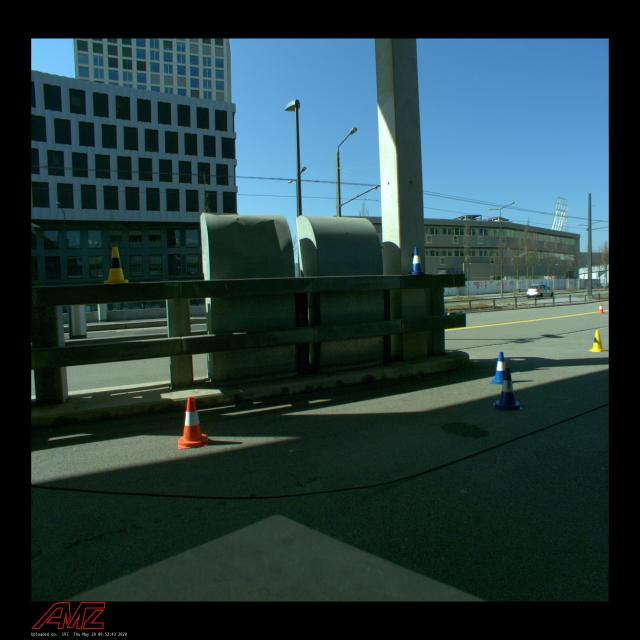blue_cone: (493, 368, 523, 412), (490, 352, 511, 384)
orange_cone: (178, 396, 210, 450), (597, 303, 604, 314)
yellow_cone: (588, 330, 607, 352)
